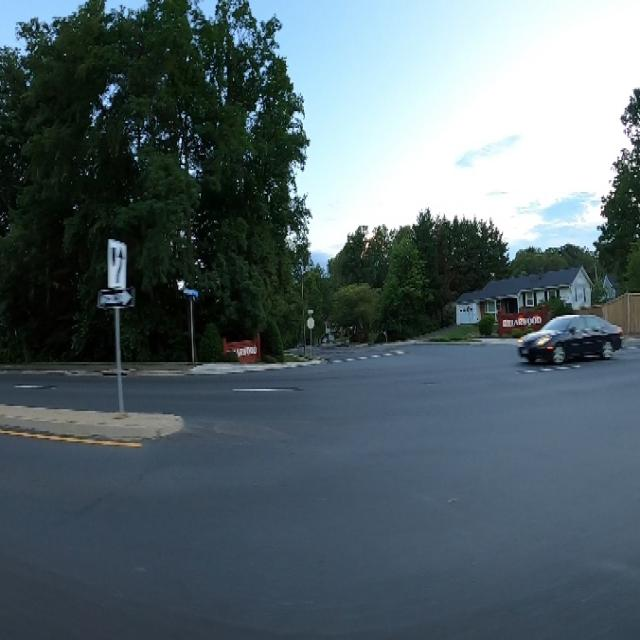car: (519, 300, 624, 382)
